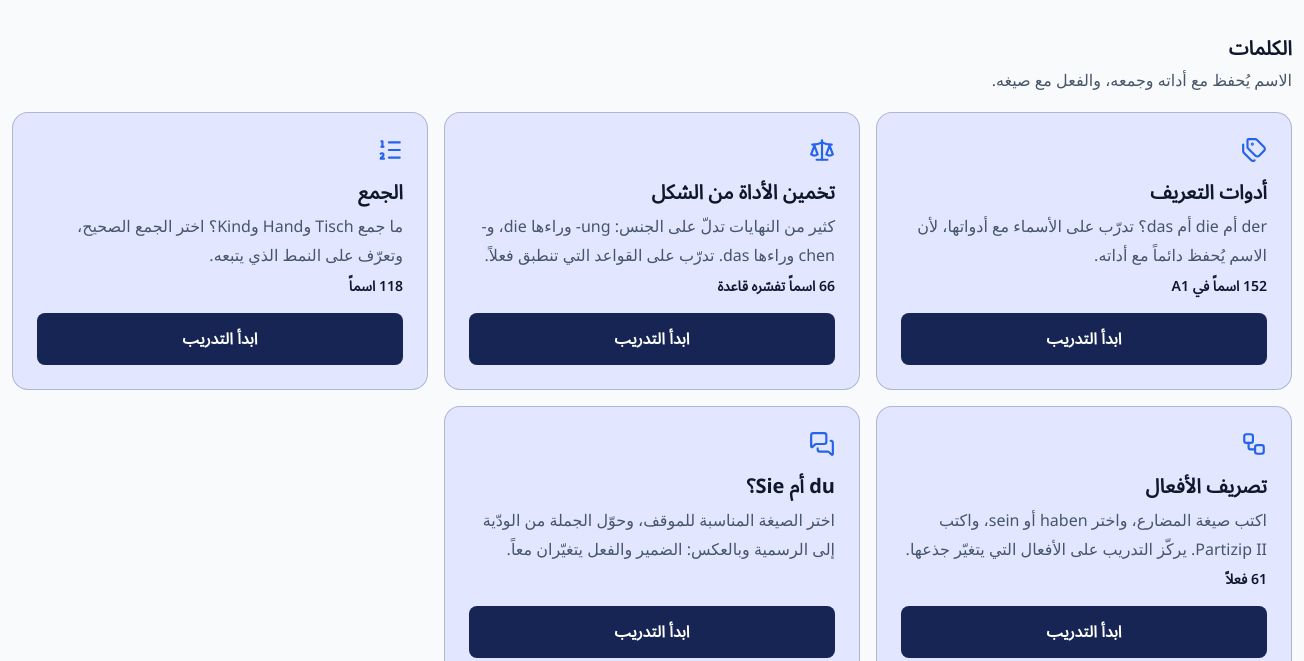
Test: PracticePage › starts an article drill whose options are der, die and das
The width and height of the screenshot is (1304, 661).
(page scrolled)
Click the button with aria-label "ابدأ التدريب: أدوات التعريف".
click(1084, 339)  # box x1=901 y1=313 x2=1267 y2=365
(page scrolled)
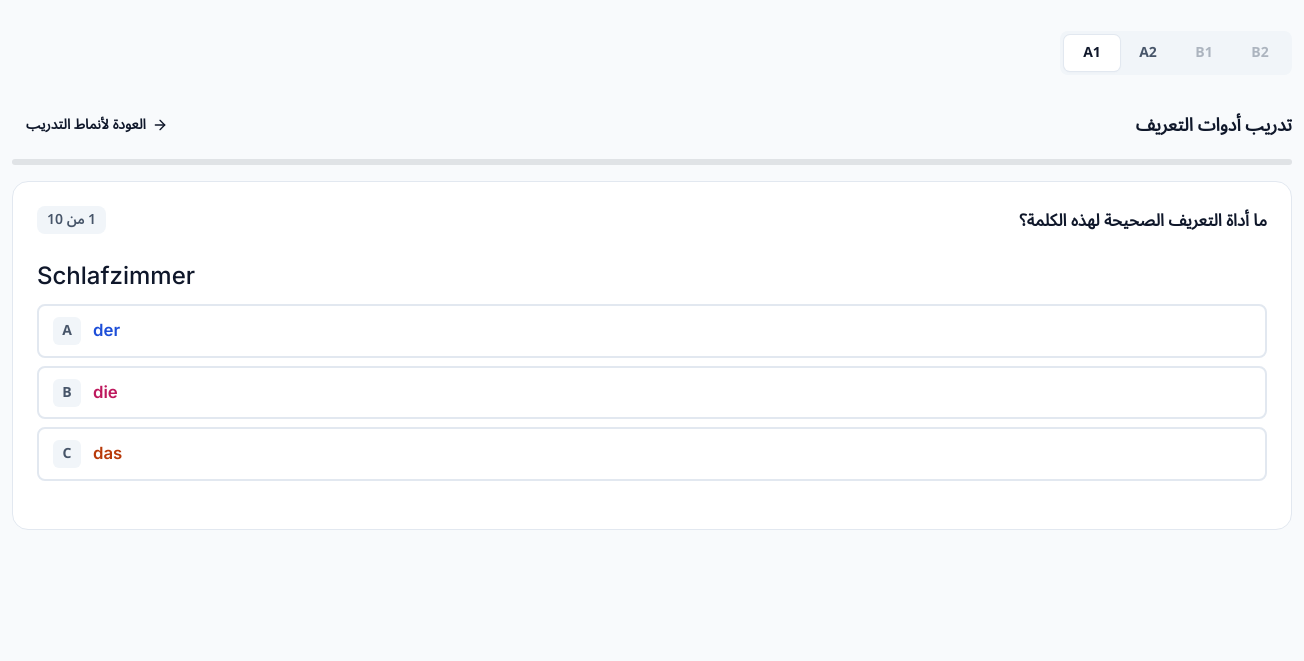
Expected: the heading "تدريب أدوات التعريف" is shown, x1=1136 y1=111 x2=1292 y2=139
Expected: the button "A der" is shown, x1=37 y1=304 x2=1267 y2=358
Expected: the button "B die" is shown, x1=37 y1=366 x2=1267 y2=419
Click the button "العودة لأنماط التدريب".
click(97, 125)  # box x1=12 y1=107 x2=182 y2=143
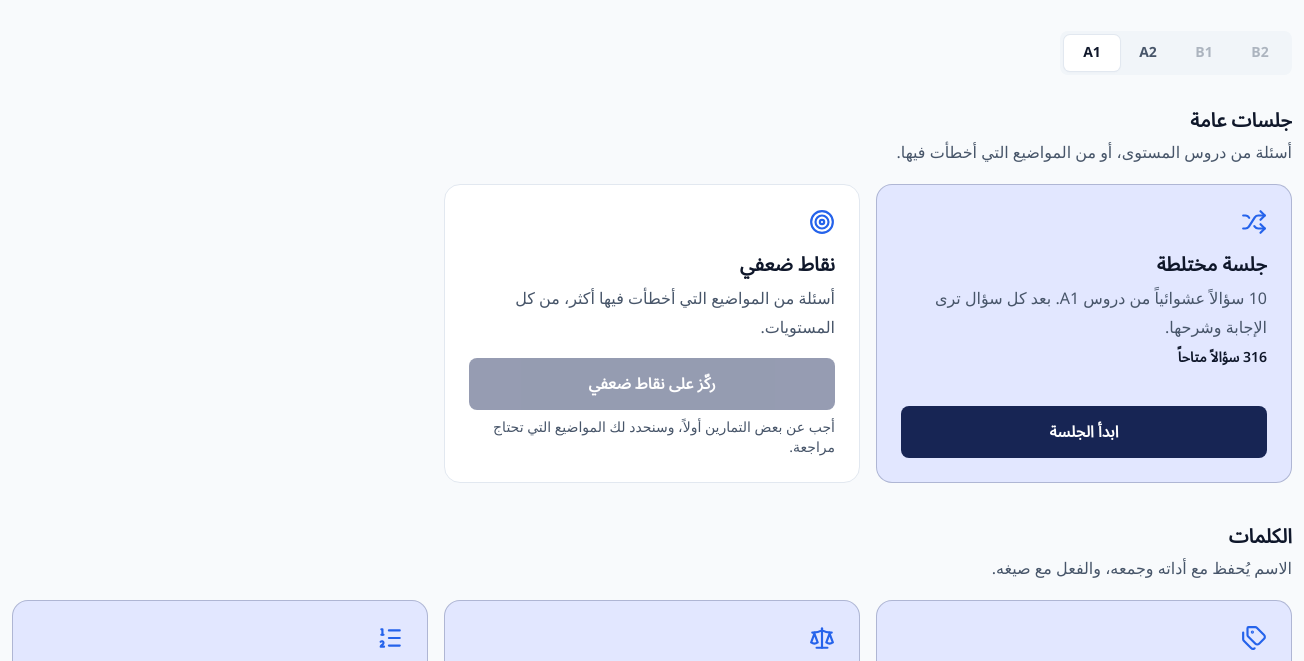
Expected: the heading "جلسة مختلطة" is shown, x1=1157 y1=244 x2=1267 y2=286
